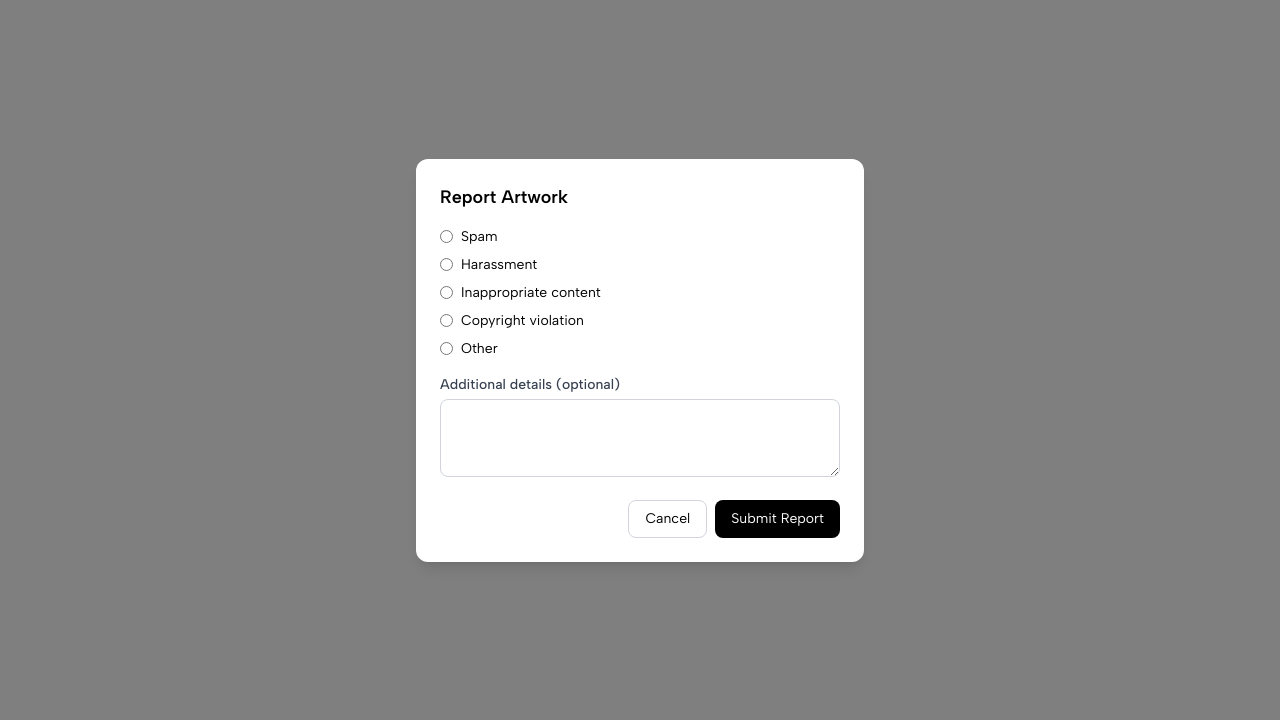
ReportModal › shows error when submitting without selecting a reason
The image size is (1280, 720).
Click the button "Submit Report": (778,518) [715,500,840,538]
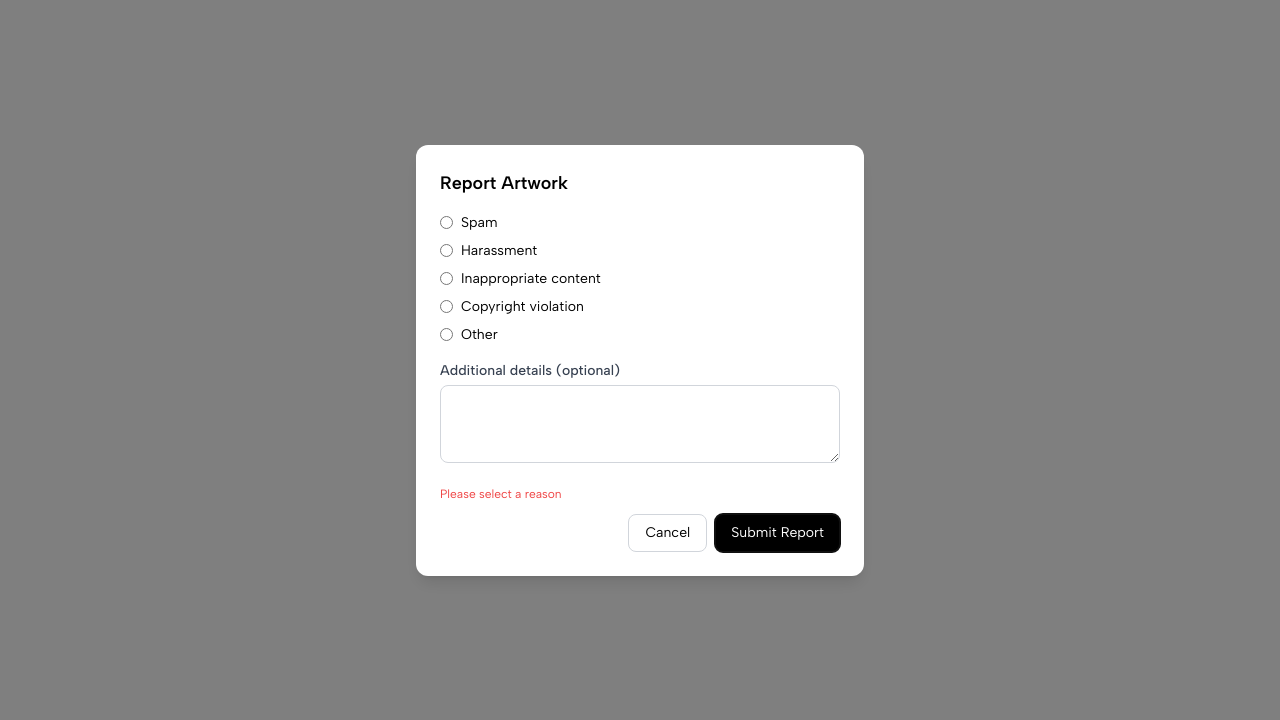
Now the text "Please select a reason" is shown, box [440,486,562,500]
